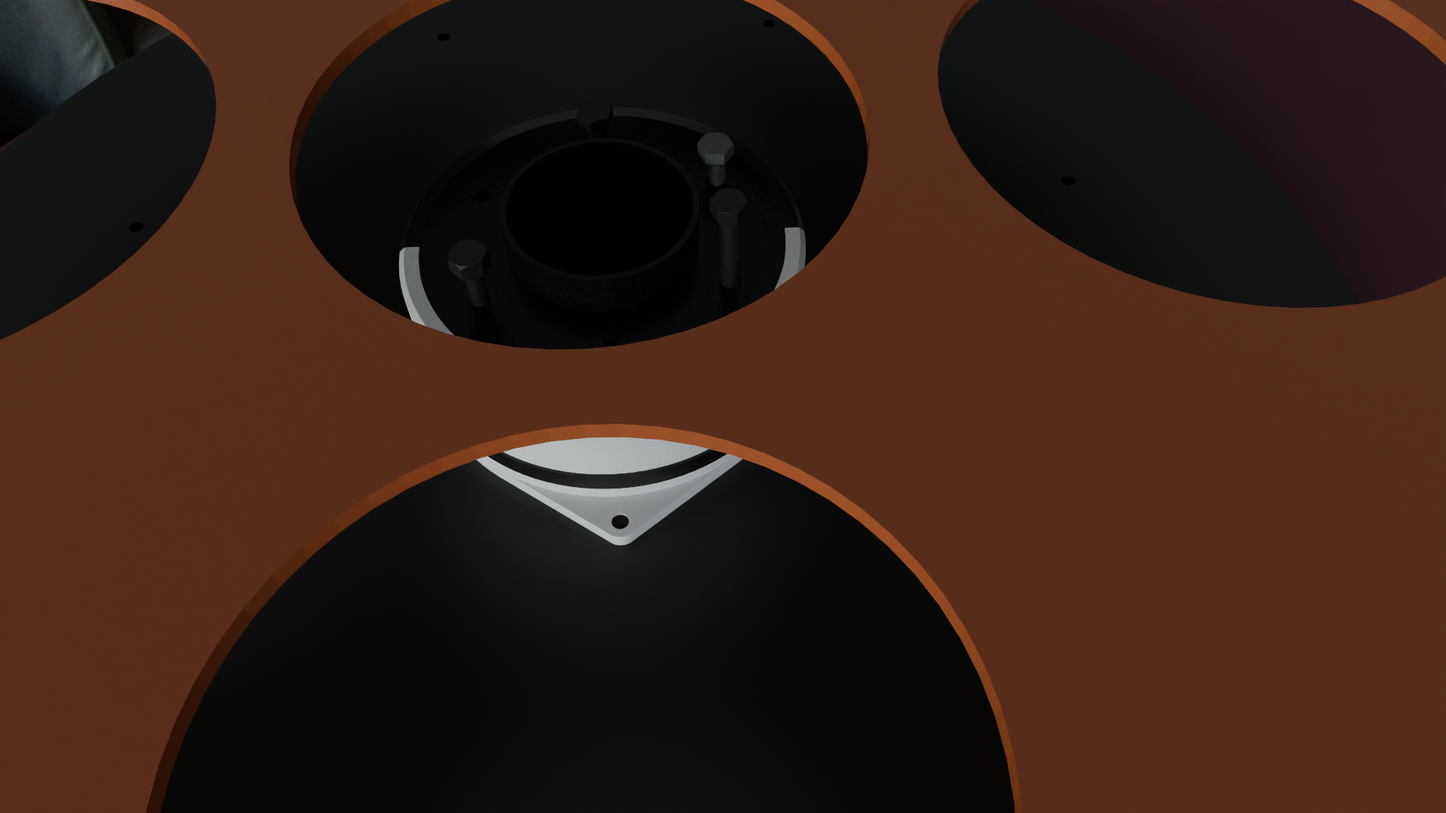bolt: (447, 239, 489, 271), (709, 188, 749, 215), (577, 98, 612, 123), (697, 132, 734, 155)
